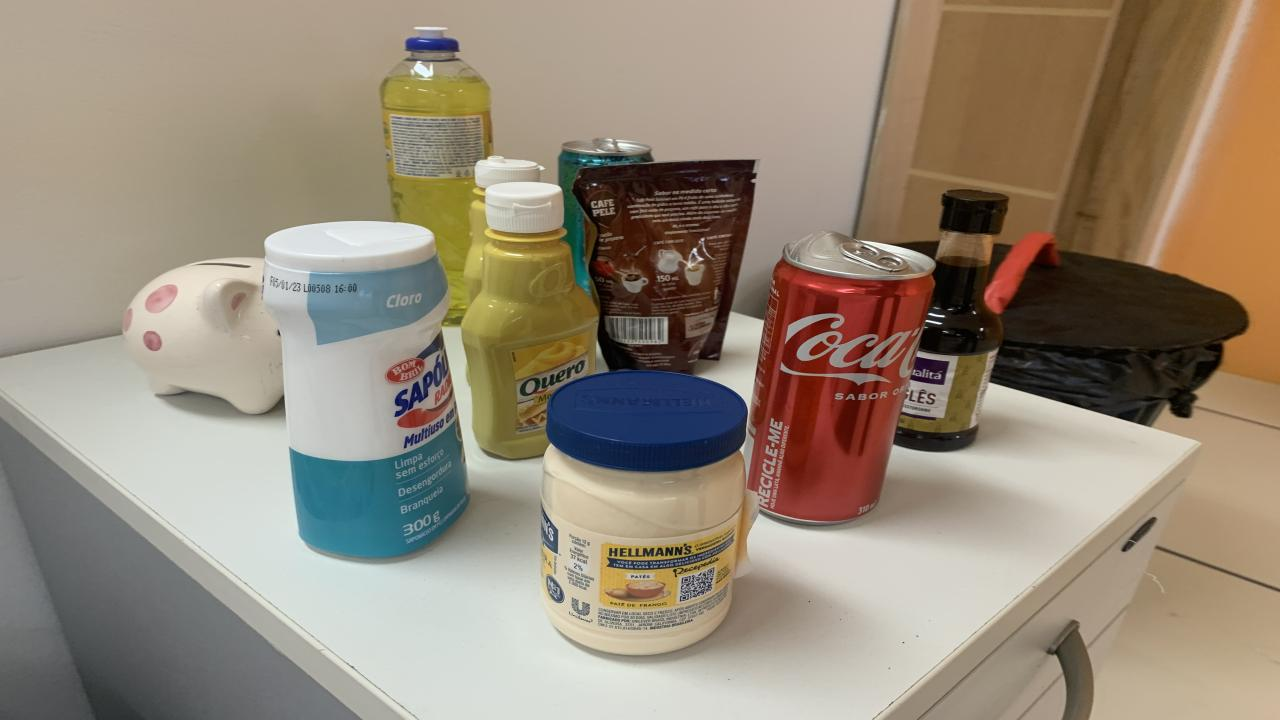Cleaner-Cleanup_Items: (262, 221, 468, 557)
Coffee-Pantry_Items: (572, 159, 755, 373)
Coke-Drinks: (748, 232, 935, 525)
Detergent-Cleanup_Items: (380, 26, 492, 324)
English_Sauce-Pantry_Items: (895, 189, 1008, 450)
Mayonnaise-Pantry_Items: (540, 371, 752, 654)
Mustard-Pantry_Items: (462, 182, 598, 459), (462, 156, 542, 306)
Pig_Safe-Miscellaneous: (122, 257, 282, 414)
Tea-Drinks: (558, 137, 652, 300)
